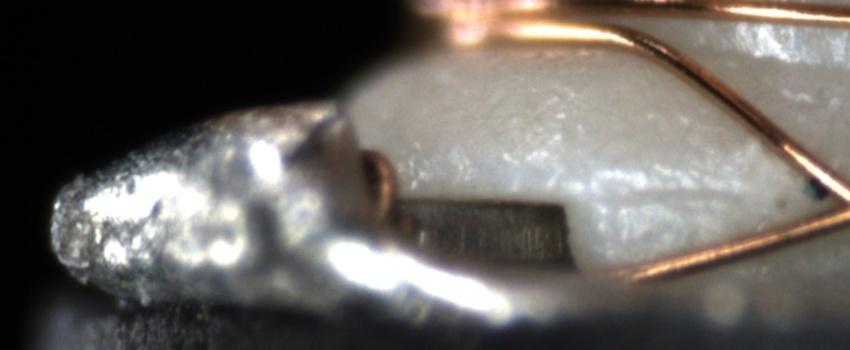CL: (799, 148, 850, 244)
DL: (577, 165, 790, 224)
TE: (354, 136, 407, 222)
